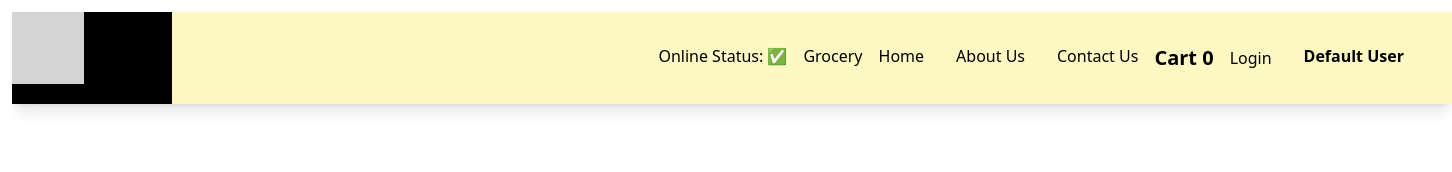
Test case: Should change to Logout when clicked on Login
here we have to smimulate a click using code :D
Click the button "Login".
click(1251, 58)  # box [1214,44,1288,72]
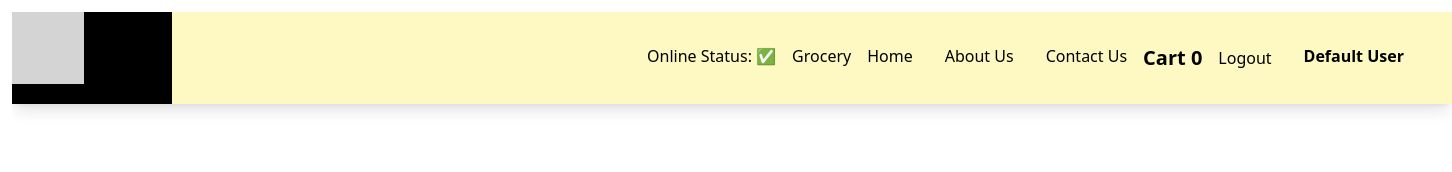
Check: the button "Logout" is shown, box [1202,44,1288,72]
